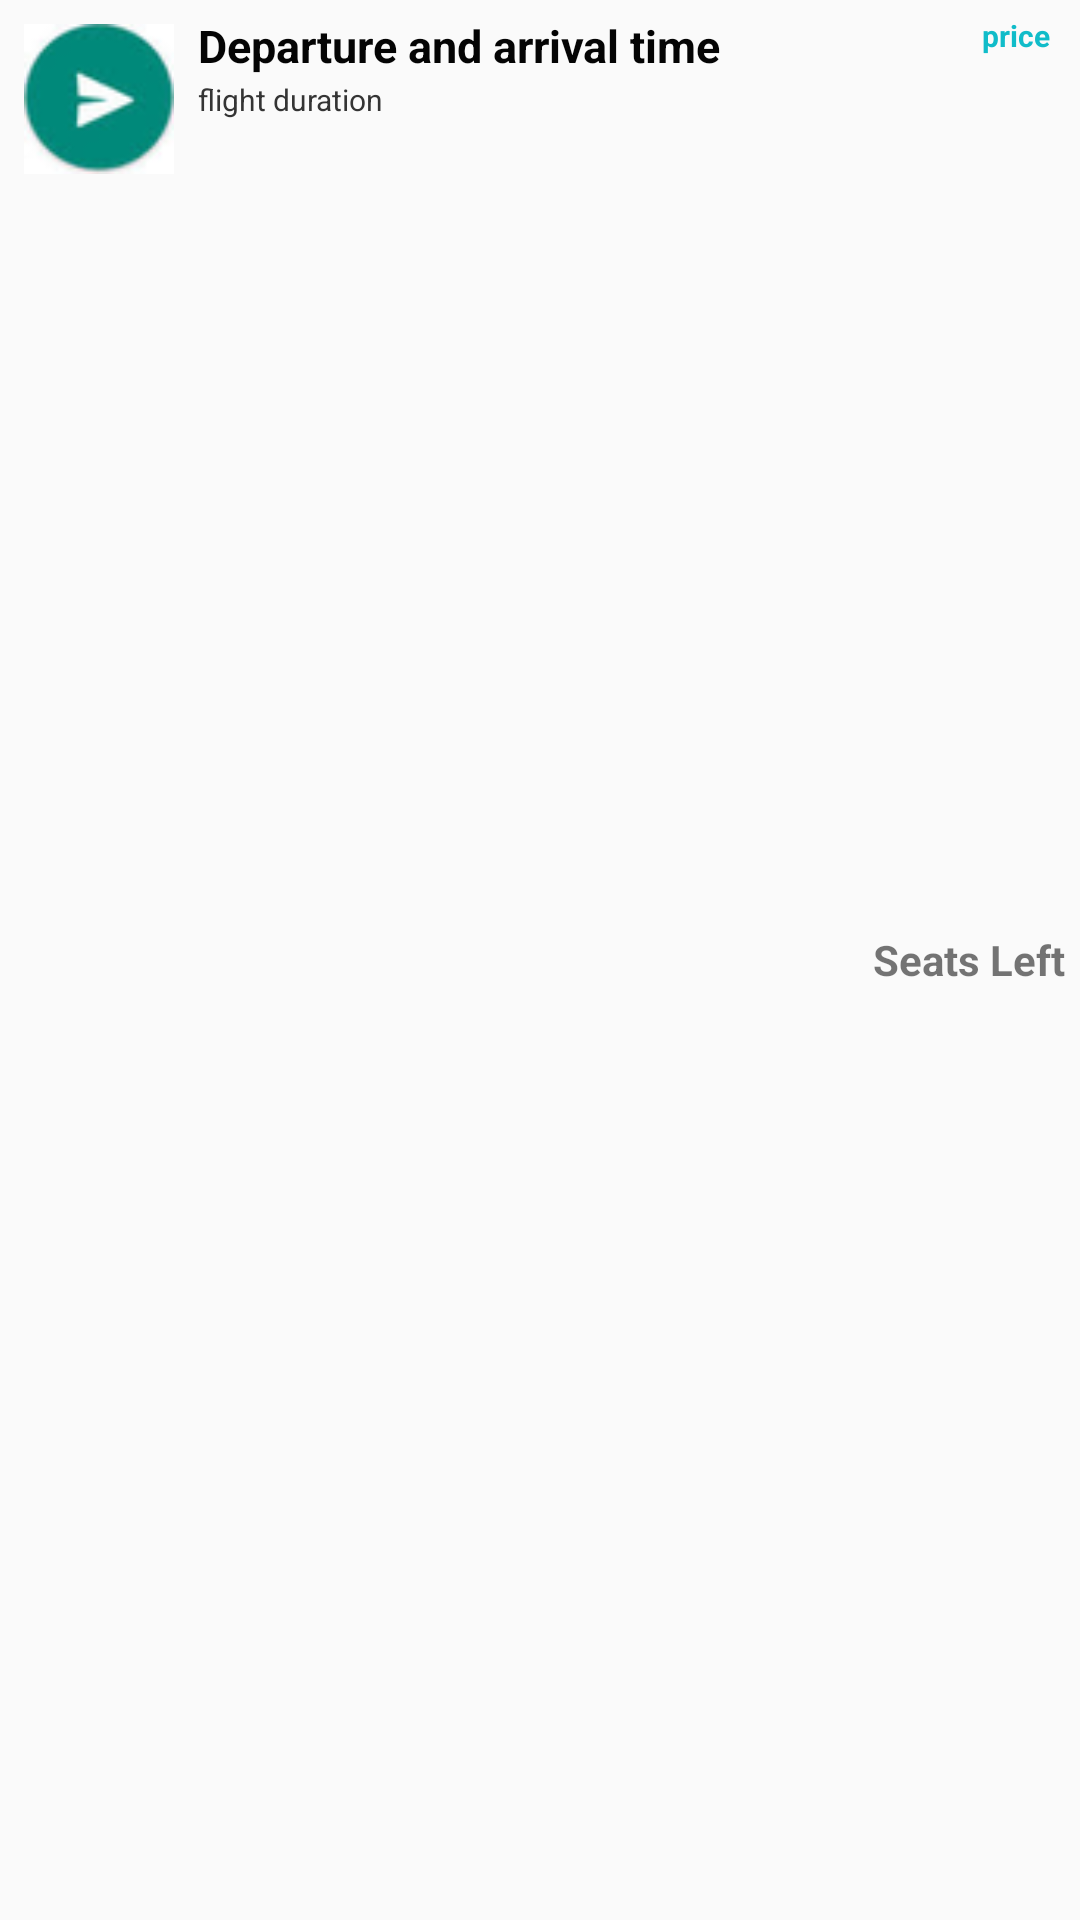

Icon click points for this 1080×1920 phone screenshot, format (x=x, y=y):
send: (x=99, y=98)
